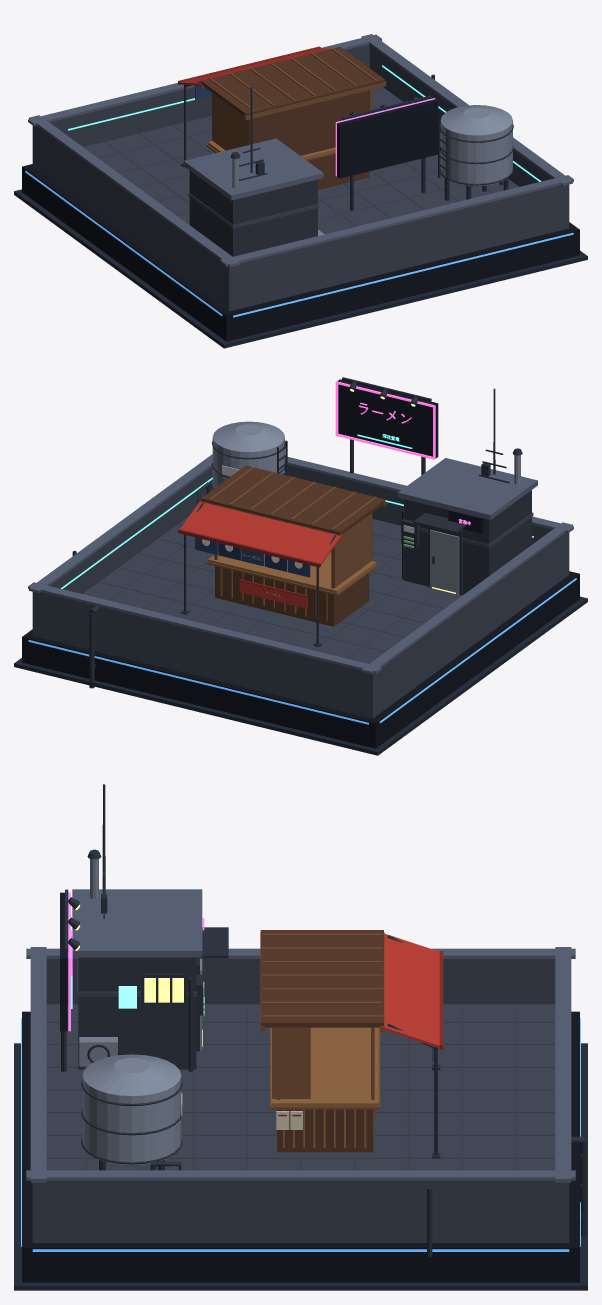
File: env_ramen_stall_rooftop.glb
3 views of the same model, one above another, from view 1: azimuth 30°, elevation 25°; view 2: azimuth 150°, elevation 25°; view 3: azimuth 270°, elevation 25° (orthographic). The views are drawn at different scales.
Parts seen in each view (by area): view 1: RoofSlab, Plinth, ParapetB, StairBody, ParapetL, StallRoof, BBoard, ParapetF, StairRoof, PlinthTrim, BackWall, TankBody (+13 smaller); view 2: RoofSlab, Plinth, ParapetF, ParapetL, StallRoof, StairBody, BBoard, StairRoof, ParapetR, Awning, PlinthTrim, CartBody (+17 smaller); view 3: RoofSlab, Plinth, ParapetR, StallRoof, StairBody, ParapetL, StairRoof, PlinthTrim, TankBody, CopR, CounterTop, Awning (+14 smaller).
Part boxes in pixels (x1=…): RoofSlab: x1=32, y1=87, x2=569, y2=311; Plinth: x1=22, y1=164, x2=579, y2=341; ParapetB: x1=224, y1=185, x2=567, y2=298; StairBody: x1=189, y1=170, x2=317, y2=256; ParapetL: x1=37, y1=126, x2=236, y2=298; StallRoof: x1=201, y1=47, x2=385, y2=115; BBoard: x1=337, y1=99, x2=438, y2=178; ParapetF: x1=32, y1=44, x2=369, y2=157; StairRoof: x1=183, y1=138, x2=323, y2=200; PlinthTrim: x1=14, y1=189, x2=587, y2=348; BackWall: x1=249, y1=90, x2=369, y2=155; TankBody: x1=440, y1=120, x2=512, y2=185; RoofSlab: x1=32, y1=516, x2=569, y2=718; Plinth: x1=22, y1=571, x2=579, y2=748; ParapetF: x1=33, y1=592, x2=377, y2=705; ParapetL: x1=365, y1=533, x2=564, y2=705; StallRoof: x1=201, y1=465, x2=385, y2=534; StairBody: x1=404, y1=490, x2=531, y2=594; BBoard: x1=337, y1=379, x2=438, y2=458; StairRoof: x1=398, y1=458, x2=537, y2=519; ParapetR: x1=32, y1=467, x2=212, y2=624; Awning: x1=180, y1=501, x2=342, y2=564; PlinthTrim: x1=14, y1=596, x2=587, y2=755; CartBody: x1=215, y1=566, x2=369, y2=626; RoofSlab: x1=32, y1=1004, x2=569, y2=1242; Plinth: x1=22, y1=1011, x2=579, y2=1282; ParapetR: x1=33, y1=1180, x2=569, y2=1225; StallRoof: x1=260, y1=930, x2=383, y2=1027; StairBody: x1=78, y1=957, x2=196, y2=1069; ParapetL: x1=46, y1=959, x2=555, y2=1004; StairRoof: x1=72, y1=889, x2=202, y2=957; PlinthTrim: x1=14, y1=1043, x2=587, y2=1290; TankBody: x1=82, y1=1076, x2=181, y2=1164; CopR: x1=26, y1=1170, x2=575, y2=1180; CounterTop: x1=271, y1=1027, x2=378, y2=1106; Awning: x1=380, y1=934, x2=439, y2=1048.
Size of the model in its own units: 10.7 by 6.33 by 10.7.
